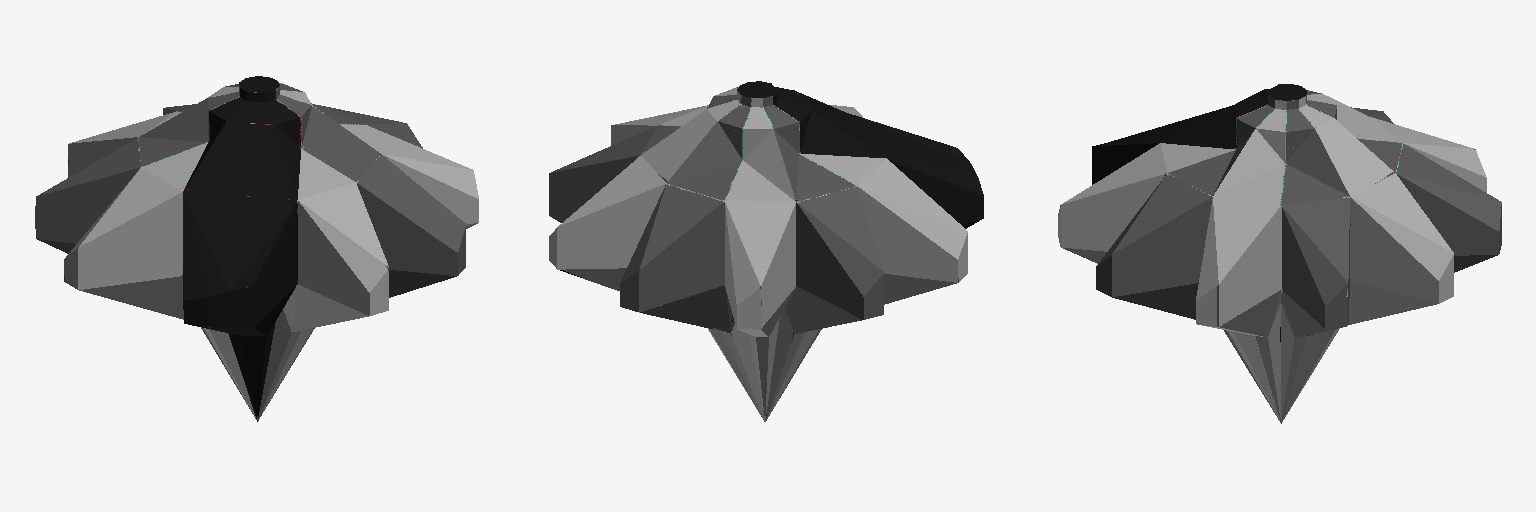
3 views of the same model, side by side, from view 1: azimuth 30°, elevation 25°; view 2: azimuth 150°, elevation 25°; view 3: azimuth 270°, elevation 25° (orthographic).
Parts seen in each view (by area): view 1: 円錐; view 2: 円錐; view 3: 円錐.
Part boxes in pixels (bbox=[...]): 円錐: bbox=[35, 76, 478, 421]; 円錐: bbox=[549, 81, 983, 421]; 円錐: bbox=[1058, 84, 1501, 423].
Size of the model in its own units: 9.87 by 8.25 by 9.93.
1 materials, 1 textured.